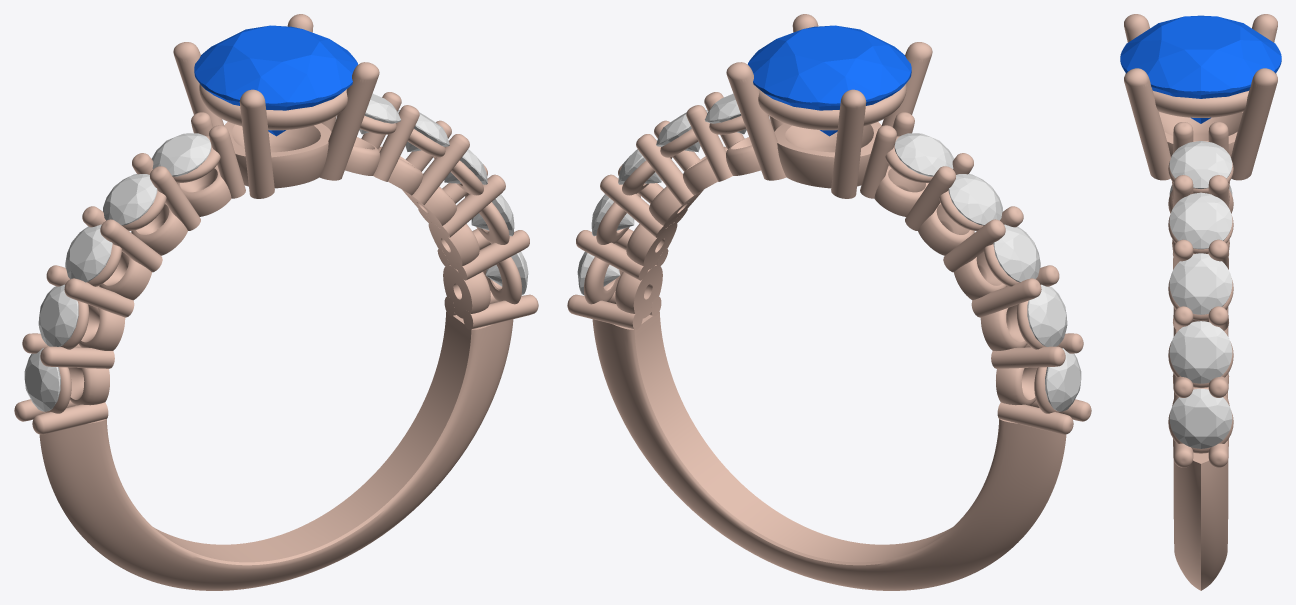
File: bluesapphire-round-rosegold-4prong-knifeedge-11stone.glb
3 views of the same model, side by side, from view 1: azimuth 30°, elevation 25°; view 2: azimuth 150°, elevation 25°; view 3: azimuth 270°, elevation 25° (orthographic).
Parts seen in each view (by area): view 1: metal, stone, side.001, side.002, side.006, side, side.007, side.003, side.004; view 2: metal, stone, side.001, side.002, side.006, side, side.007, side.003, side.004; view 3: metal, stone, side.008, side.005, side.009, side.004, side.003.
Boxes of the visible parts, x1=… form: metal: x1=14, y1=14, x2=538, y2=590; stone: x1=194, y1=25, x2=358, y2=136; side.001: x1=103, y1=174, x2=157, y2=225; side.002: x1=65, y1=224, x2=112, y2=282; side.006: x1=38, y1=284, x2=78, y2=346; side: x1=152, y1=133, x2=211, y2=176; side.007: x1=24, y1=348, x2=60, y2=411; side.003: x1=359, y1=93, x2=400, y2=134; side.004: x1=397, y1=110, x2=449, y2=151; metal: x1=567, y1=14, x2=1091, y2=590; stone: x1=747, y1=25, x2=911, y2=136; side.001: x1=948, y1=174, x2=1002, y2=225; side.002: x1=993, y1=224, x2=1040, y2=282; side.006: x1=1027, y1=284, x2=1067, y2=346; side: x1=894, y1=133, x2=953, y2=176; side.007: x1=1045, y1=348, x2=1081, y2=411; side.003: x1=705, y1=93, x2=746, y2=134; side.004: x1=656, y1=110, x2=708, y2=152; metal: x1=1124, y1=14, x2=1277, y2=590; stone: x1=1120, y1=15, x2=1281, y2=123; side.008: x1=1169, y1=321, x2=1232, y2=383; side.005: x1=1169, y1=253, x2=1232, y2=314; side.009: x1=1169, y1=388, x2=1232, y2=448; side.004: x1=1169, y1=192, x2=1232, y2=249; side.003: x1=1169, y1=141, x2=1232, y2=188.
Size of the model in its own units: 22.68 by 23.31 by 6.44.
